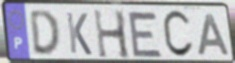A: (197, 13, 232, 57)
C: (161, 9, 196, 60)
D: (28, 9, 62, 58)
E: (126, 9, 165, 59)
H: (92, 8, 133, 61)
K: (64, 11, 94, 57)
